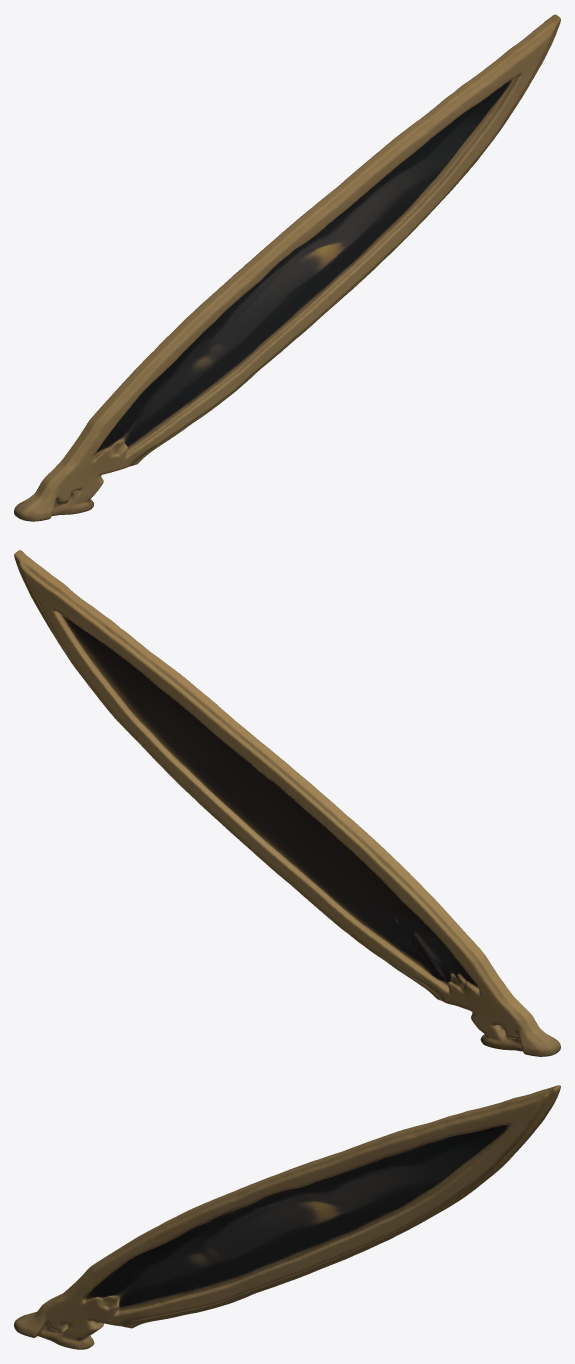
File: ear_single_ref-8.glb
3 renders of one model, top to bottom at view 1: azimuth 30°, elevation 25°; view 2: azimuth 150°, elevation 25°; view 3: azimuth 330°, elevation 25°, orthographic.
Size of the model in its own units: 1 by 0.6631 by 0.055.
1 material, 1 textured.
